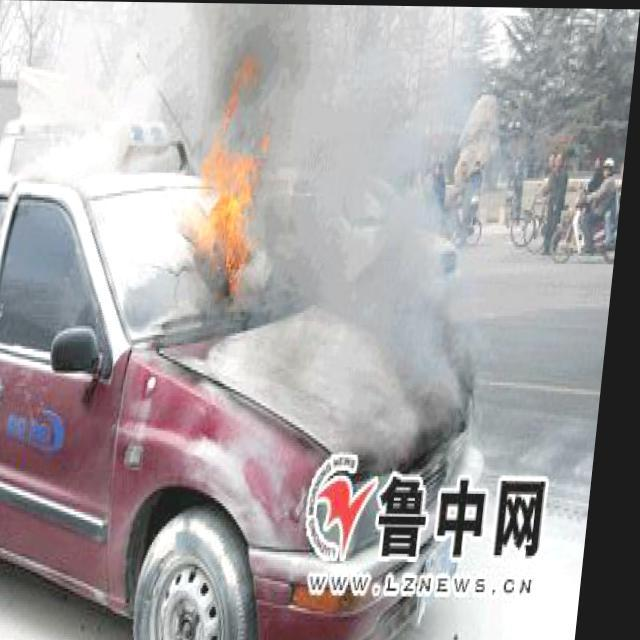Fire: (189, 56, 284, 316)
